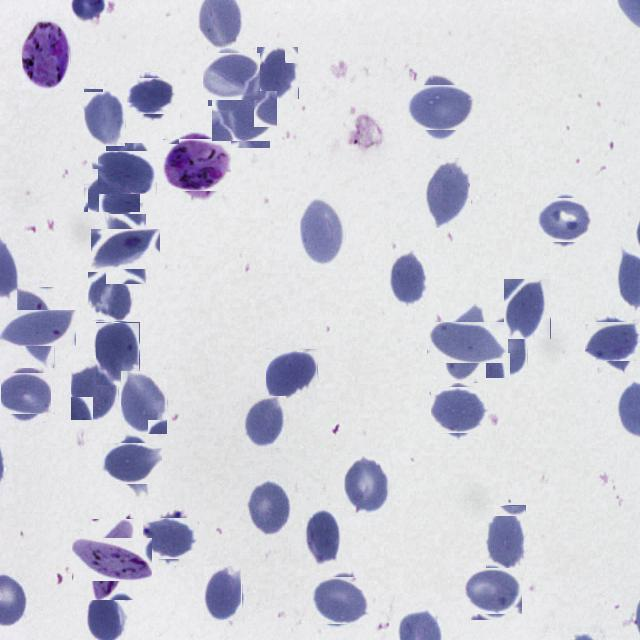difficult: (22, 18, 70, 89)
red blood cell: (436, 312, 498, 373), (6, 298, 65, 357), (412, 78, 470, 136), (216, 86, 274, 144), (300, 195, 346, 266), (425, 158, 471, 228), (98, 222, 154, 276), (121, 370, 168, 434), (344, 455, 392, 517), (504, 278, 551, 339), (71, 361, 119, 420), (432, 384, 486, 436), (486, 313, 529, 378), (96, 322, 140, 385), (205, 51, 258, 103), (314, 574, 366, 626), (468, 565, 520, 617), (102, 147, 154, 199), (246, 478, 291, 538), (266, 348, 318, 399), (486, 506, 526, 572), (107, 438, 158, 489), (0, 368, 51, 418), (540, 195, 590, 245), (590, 316, 640, 366), (87, 165, 137, 215), (84, 88, 126, 146), (146, 514, 195, 562), (242, 396, 286, 448), (388, 250, 428, 307), (257, 46, 299, 99), (88, 272, 132, 321), (204, 565, 242, 621), (305, 508, 342, 565), (130, 76, 172, 118)
ring: (82, 528, 144, 590)
trophozoite: (168, 136, 228, 196)
